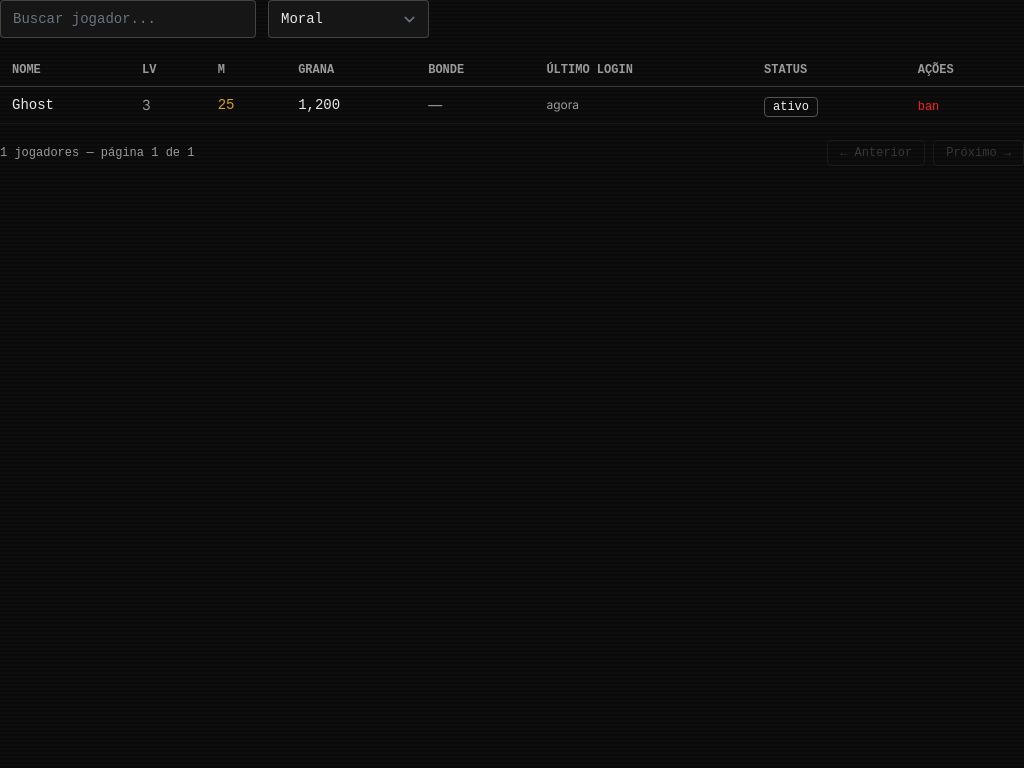
Test: PlayersTab › should ban a player after confirmation with a reason
Click the button "ban" at coordinates (928, 107), box [918,99,939,115]
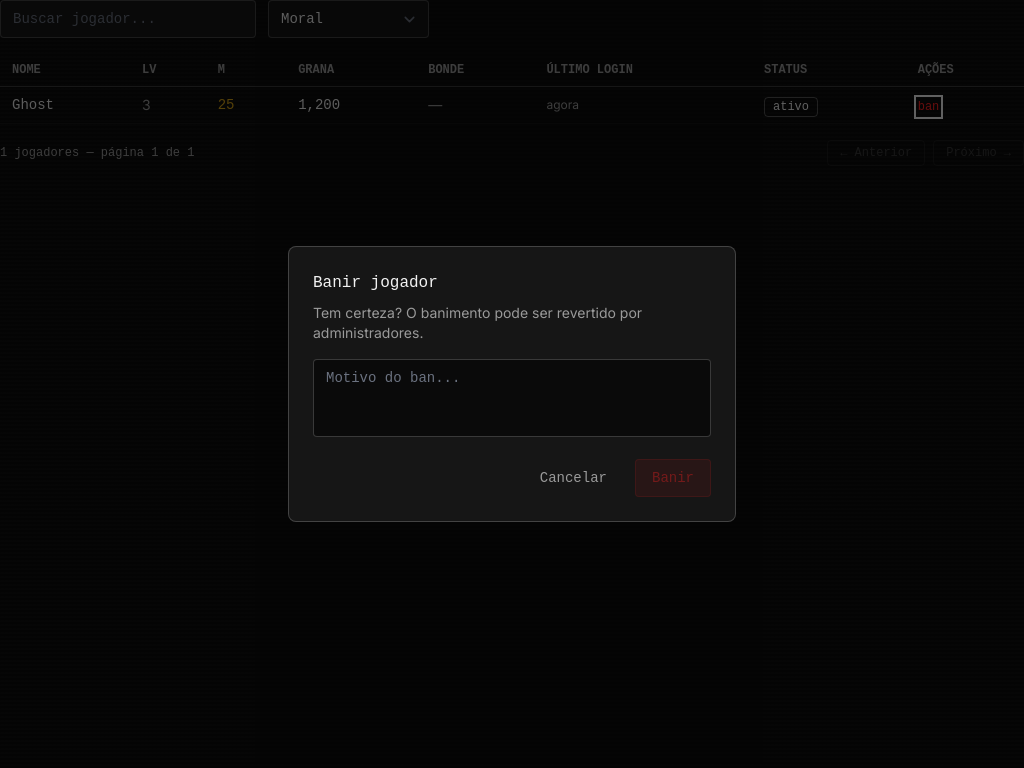
Expected: the heading "Banir jogador" is shown, [313,274,438,292]
Expected: the button "Banir" is disabled, [635,459,711,497]
Type "Griefing" into the text box with placeholder "Motivo do ban..." at coordinates (512, 398), box [313,359,711,437]
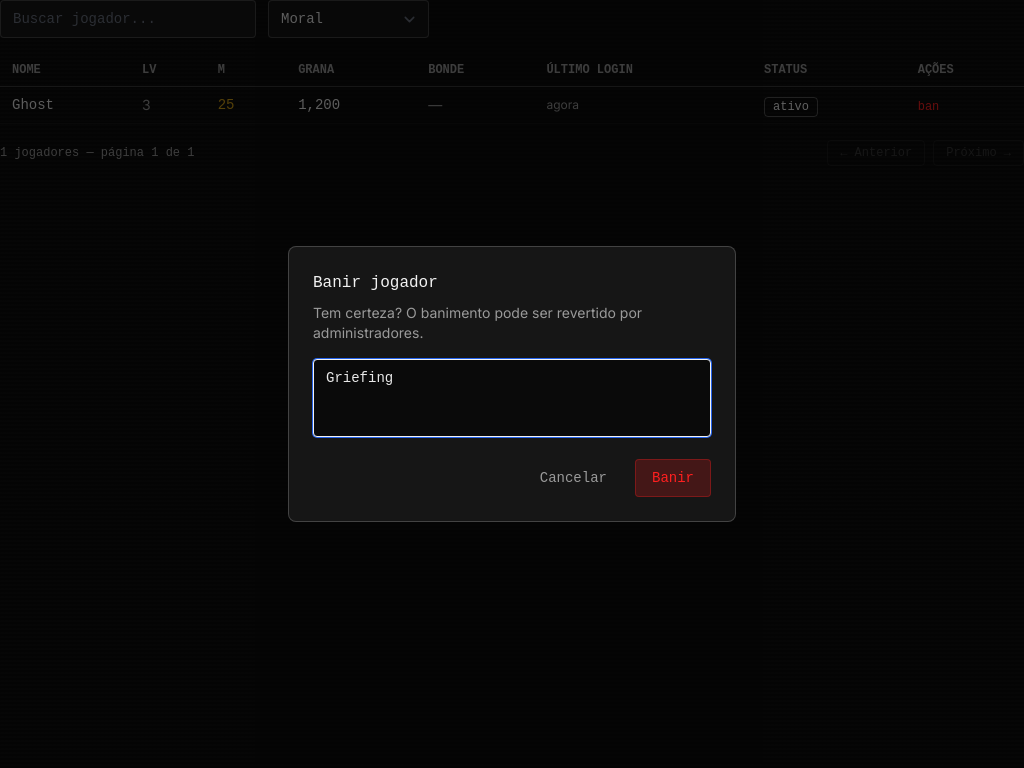
Expected: the button "Banir" is enabled
Click the button "Banir" at coordinates (673, 478), box [635,459,711,497]
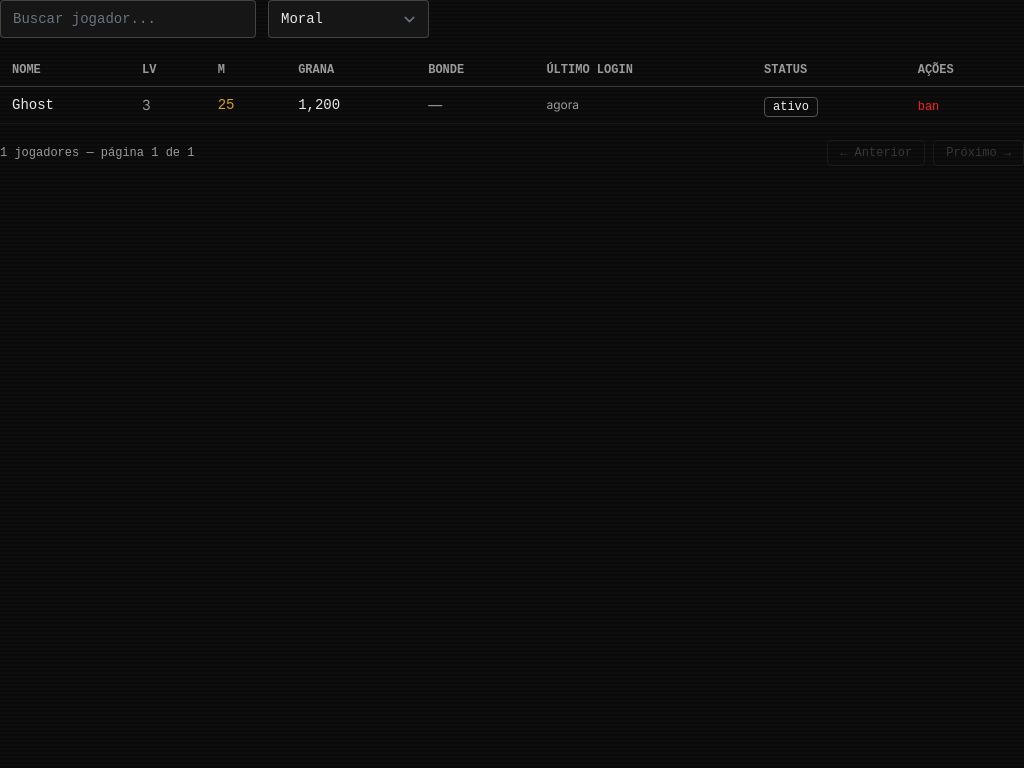
Expected: the heading "Banir jogador" is gone
